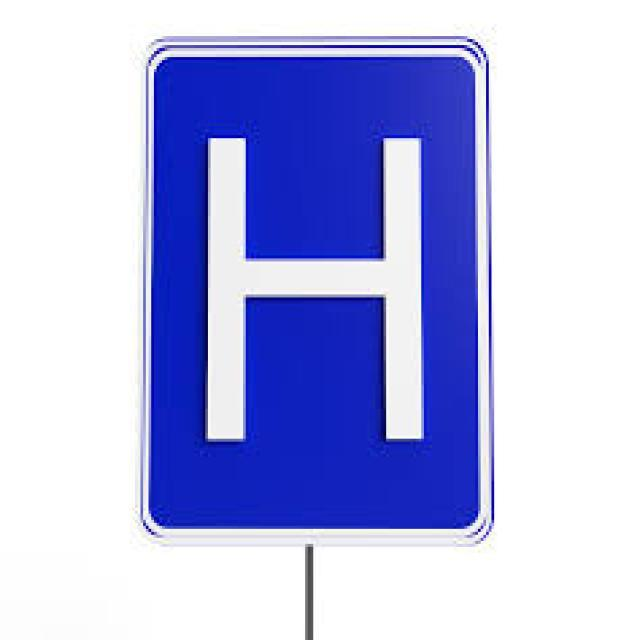hospital ahead: (175, 82, 459, 481)
